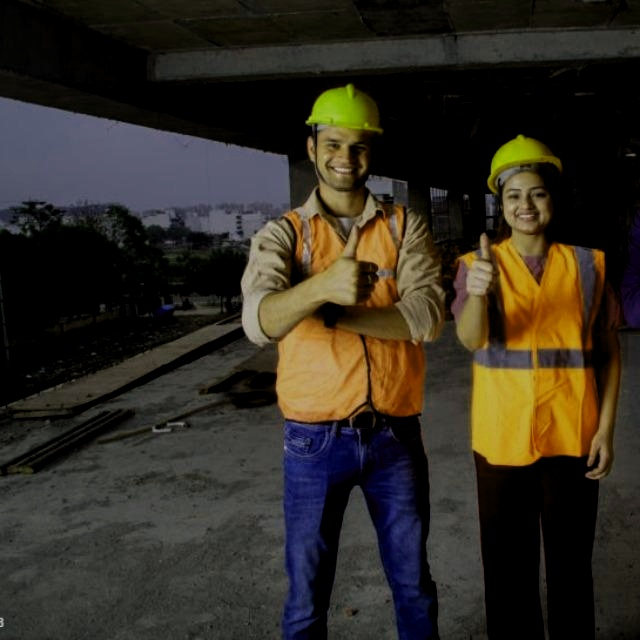Con_Casco: (306, 85, 382, 191), (488, 135, 566, 233)
Con_Chaleco: (273, 197, 423, 420), (464, 237, 607, 467)
